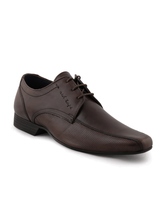shoes: (11, 68, 155, 159)
